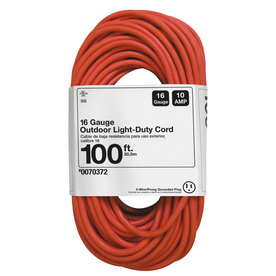Nonrec_Tangler: (52, 6, 214, 267)
